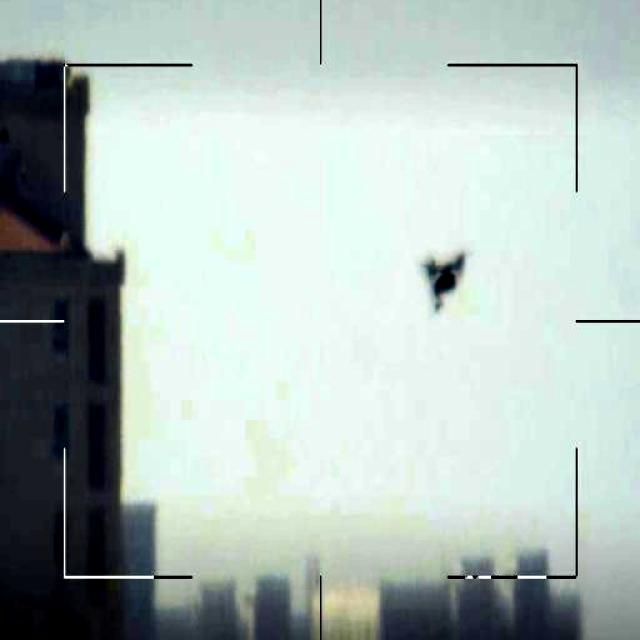bird: (415, 248, 471, 316)
